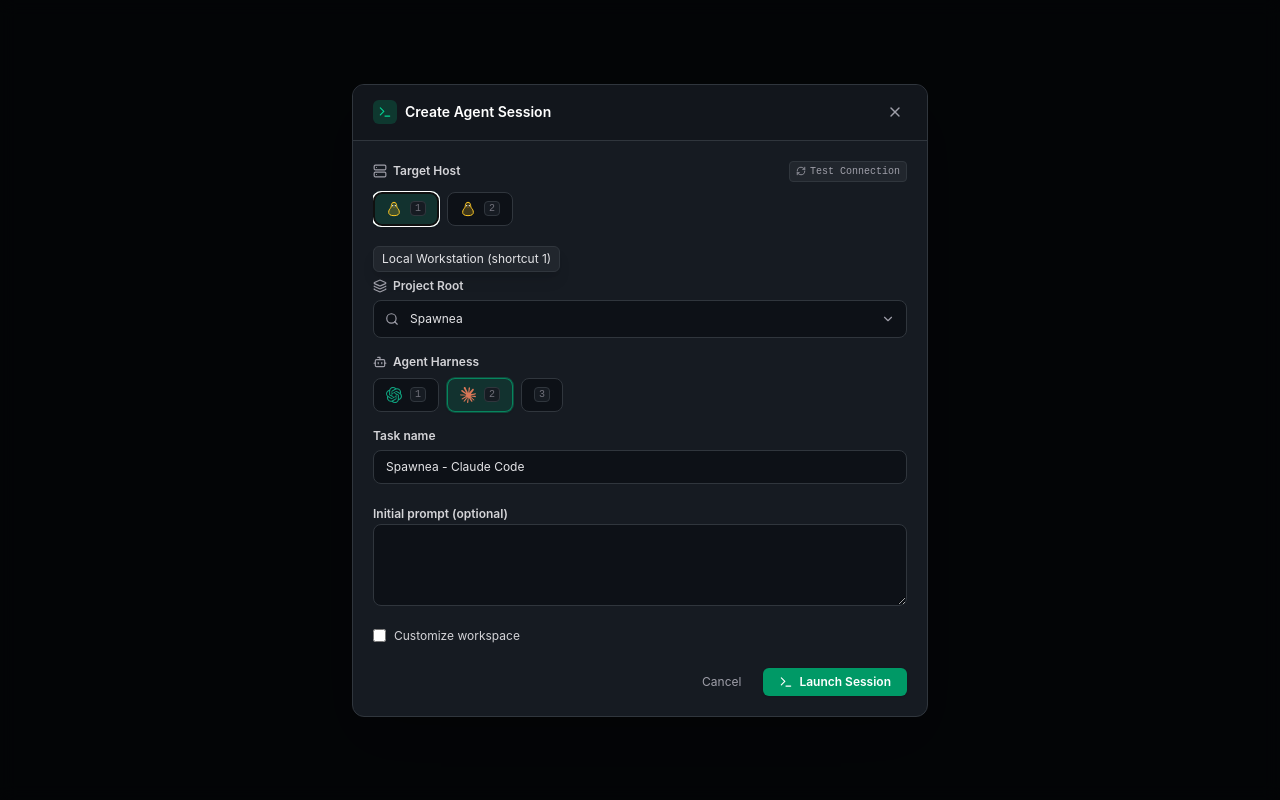
Scenario: CreateSessionModal › filters projects in real time when typing in searchable combobox
Filter by name
Step 1. Replace the text in the dropdown with test id "select-project-input" with "Frontend" → x=640, y=318, box [373,300,907,338]
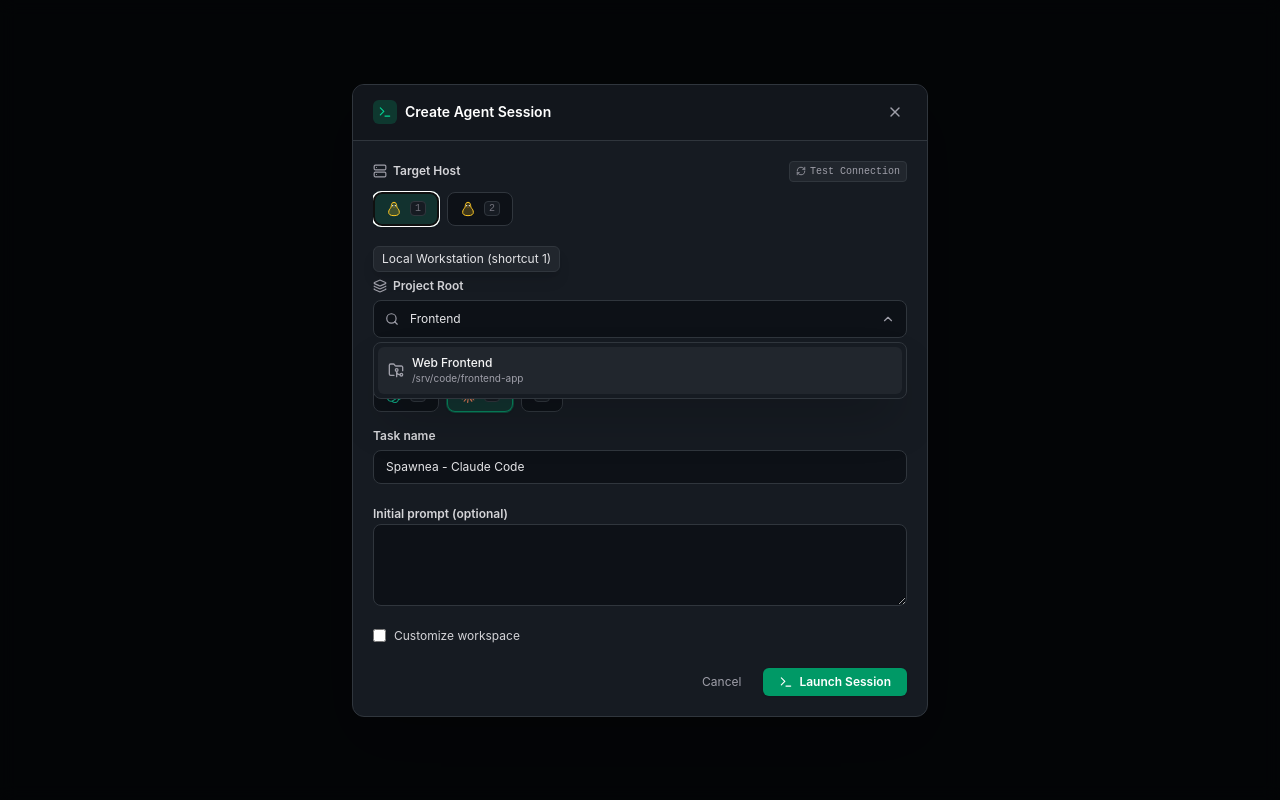
Result: the list is shown at [373,342,907,398]
Result: the option "Web Frontend /srv/code/frontend-app" is shown at [378,346,902,394]
Filter by path
Step 2. Replace the text in the dropdown with test id "select-project-input" with "spawnea" → x=640, y=318, box [373,300,907,338]
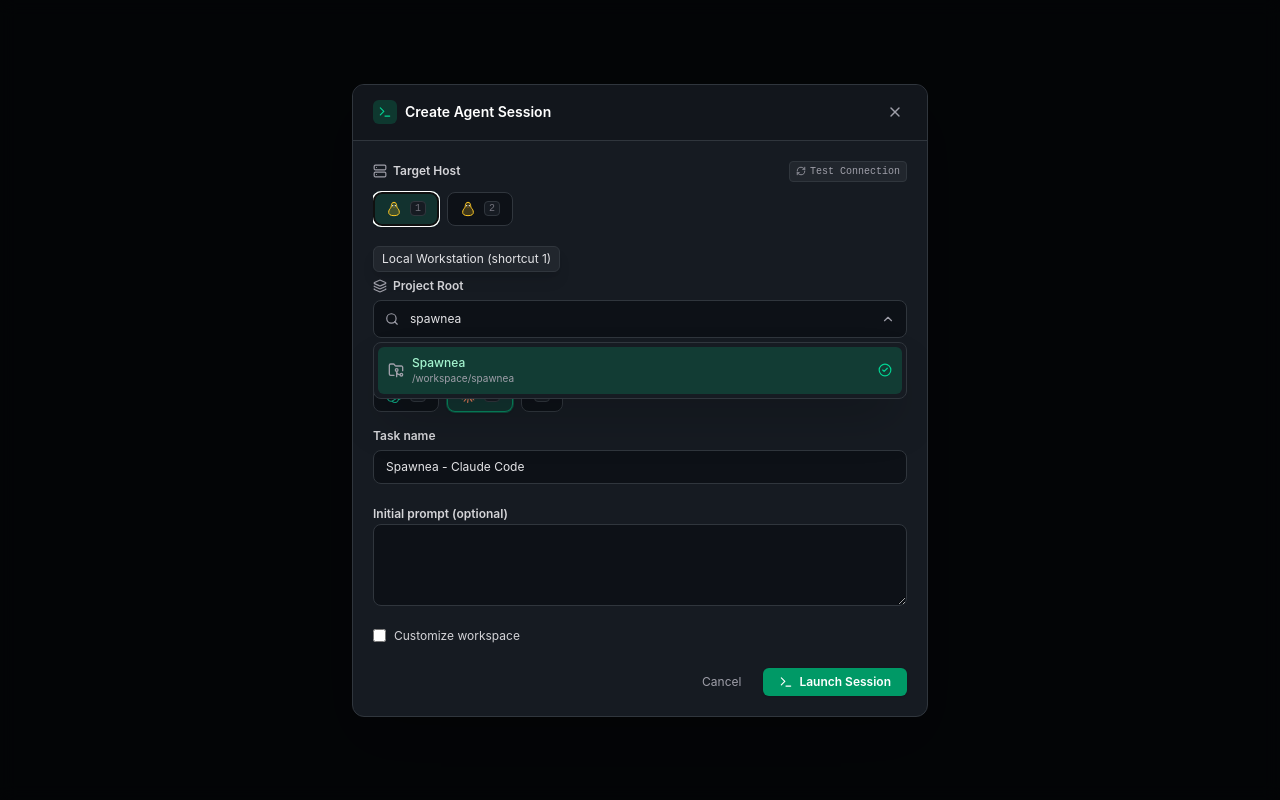
Result: the option "Spawnea /workspace/spawnea" is shown at [378,346,902,394]
Result: the option "Web Frontend" is gone
